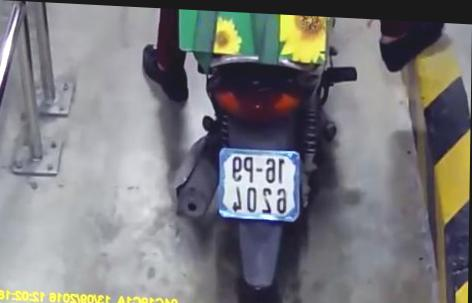License_Plate: (210, 140, 309, 227)
